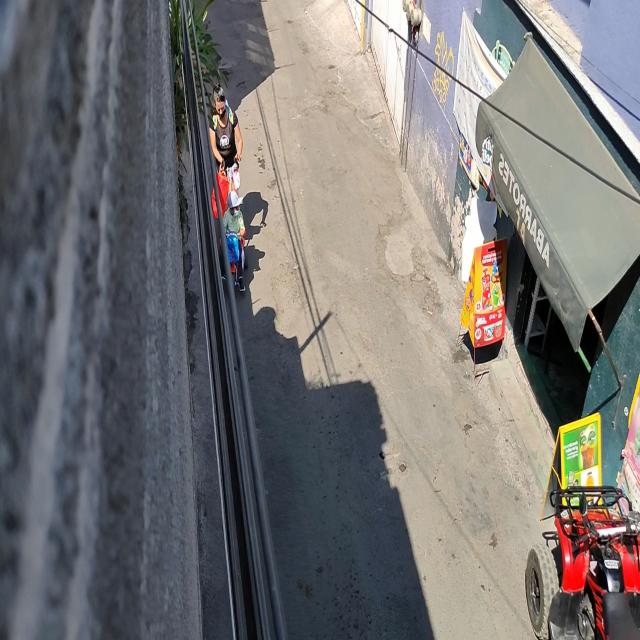adult: (207, 83, 244, 236)
child: (218, 188, 248, 296)
